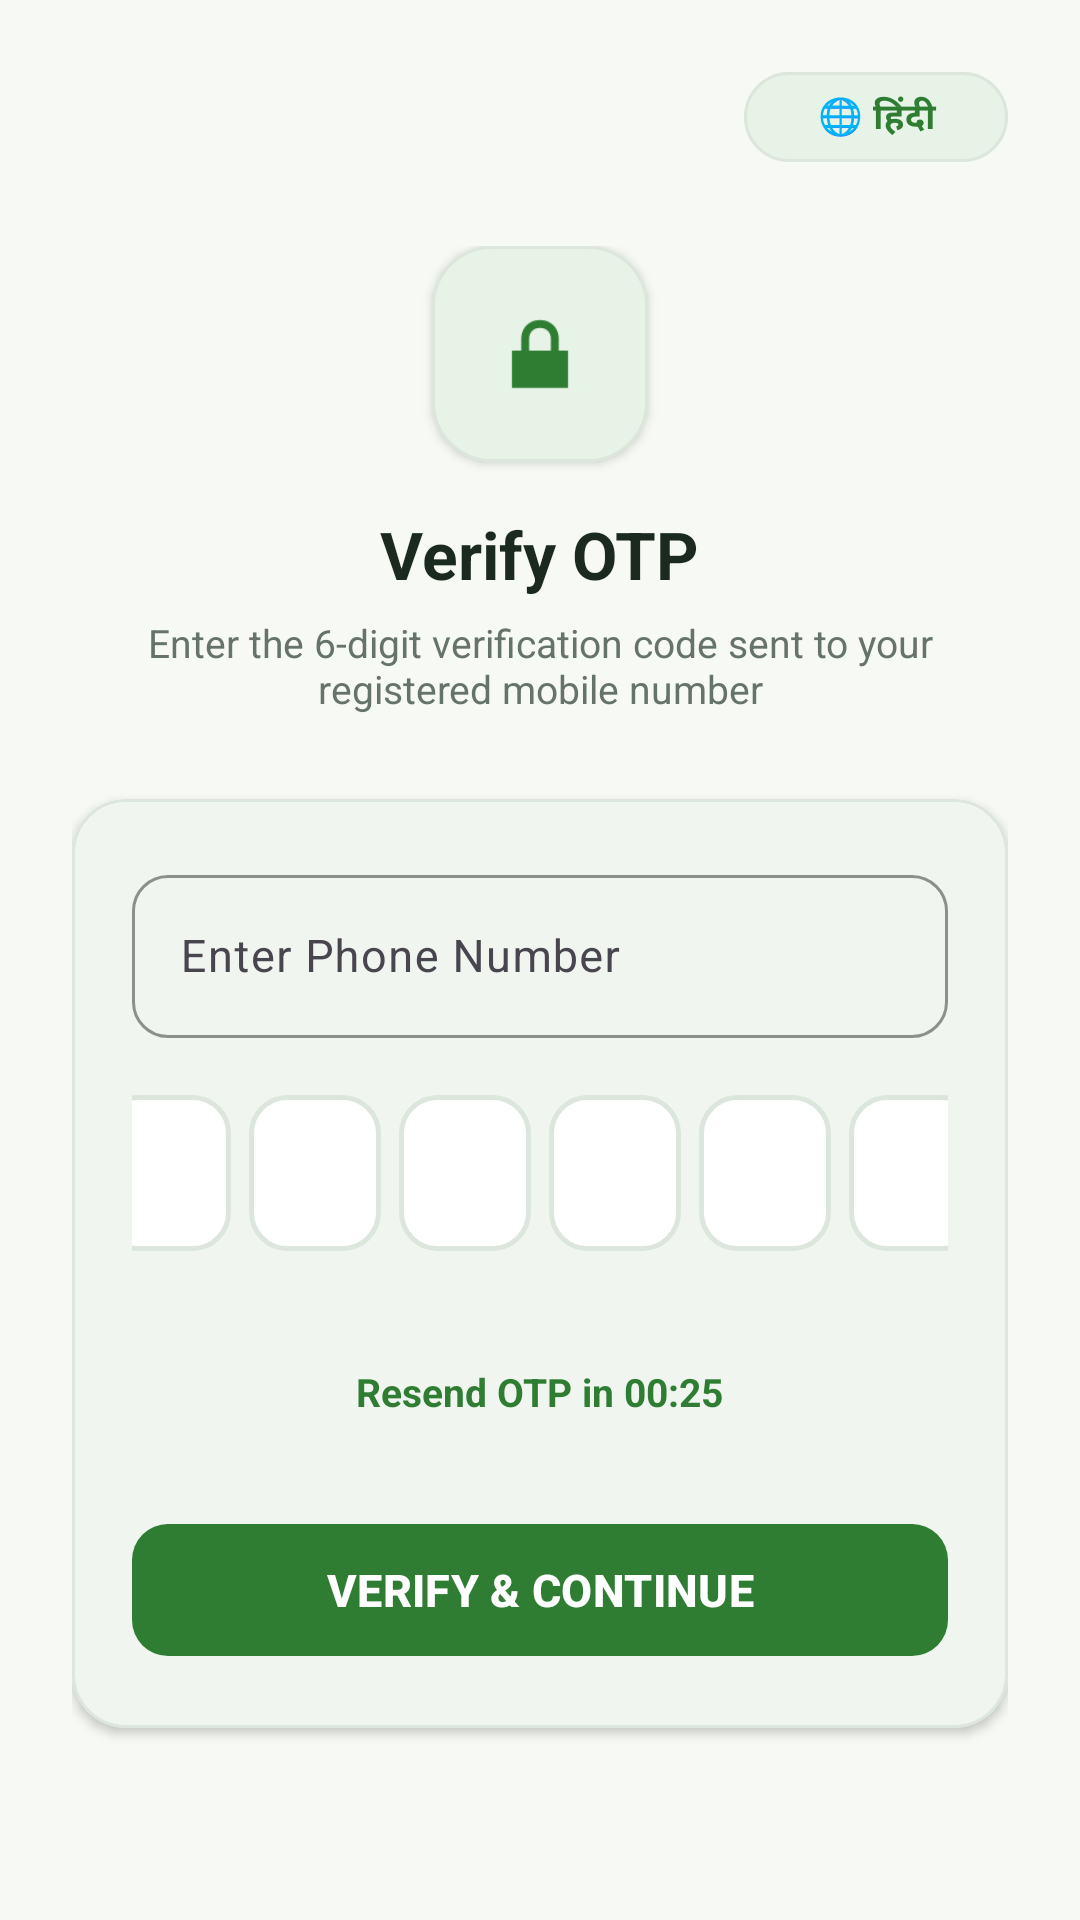

Named icons in this screenshot (1080w x 1920h) and their centers, (x=x, y=y):
Security Icon: (x=540, y=354)
